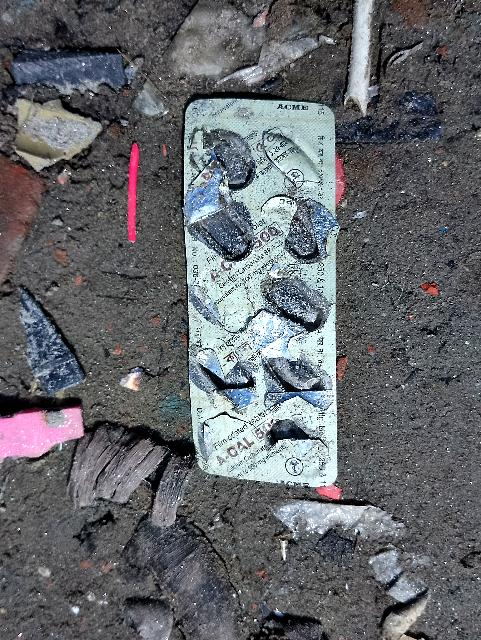medicine: (180, 79, 341, 489)
